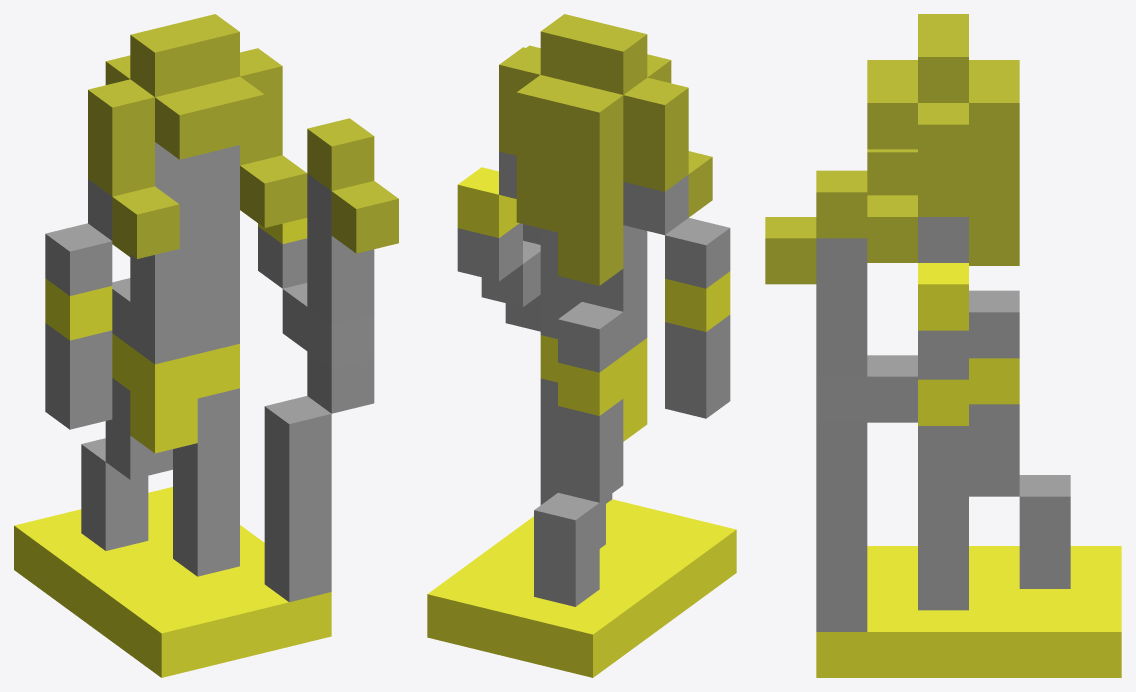
File: MainThings_Vox-4.obj
The picture shows the model from 3 angles, left to right: view 1: azimuth 30°, elevation 25°; view 2: azimuth 150°, elevation 25°; view 3: azimuth 270°, elevation 25°; orthographic projection. The views are drawn at different scales.
Size of the model in its own units: 0.6 by 1.3 by 0.7.
Materials: 1 (1 with a texture image).
